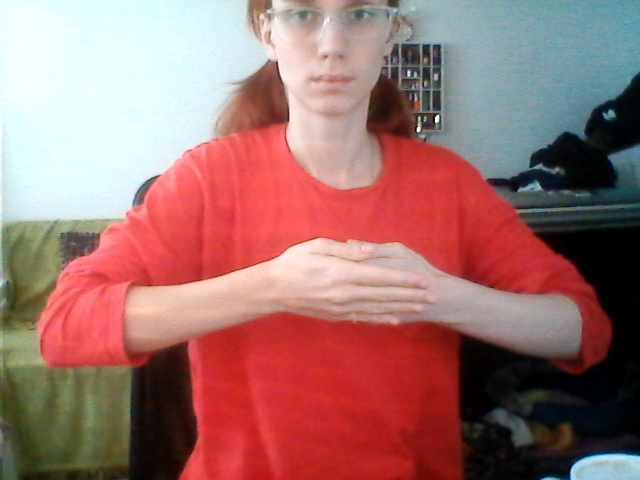dvere: (263, 231, 450, 338)
